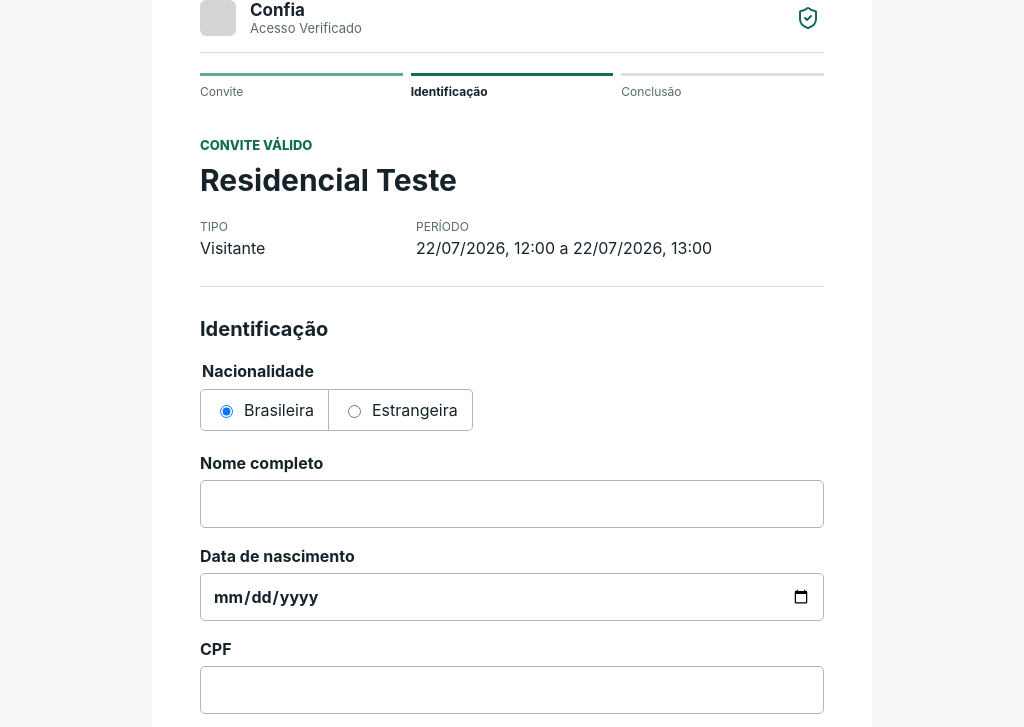
Test case: RegistrationFlow › shows guardian fields when the server-aligned age is under 18
Expected: the heading "Residencial Teste" is shown, [200, 162, 457, 198]
Type "2012-01-01" into the date field labelled "Data de nascimento" at (512, 597), box [200, 573, 824, 621]
(page scrolled)
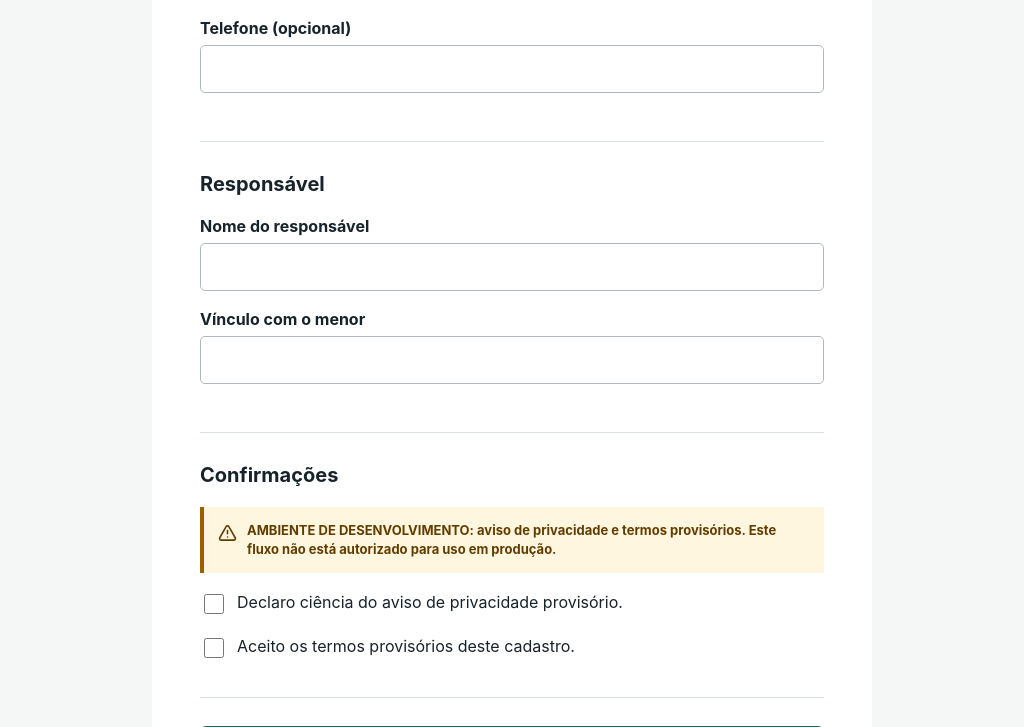
Expected: the field labelled "Nome do responsável" is shown, [200, 243, 824, 291]
Expected: the field labelled "Vínculo com o menor" is shown, [200, 336, 824, 384]
